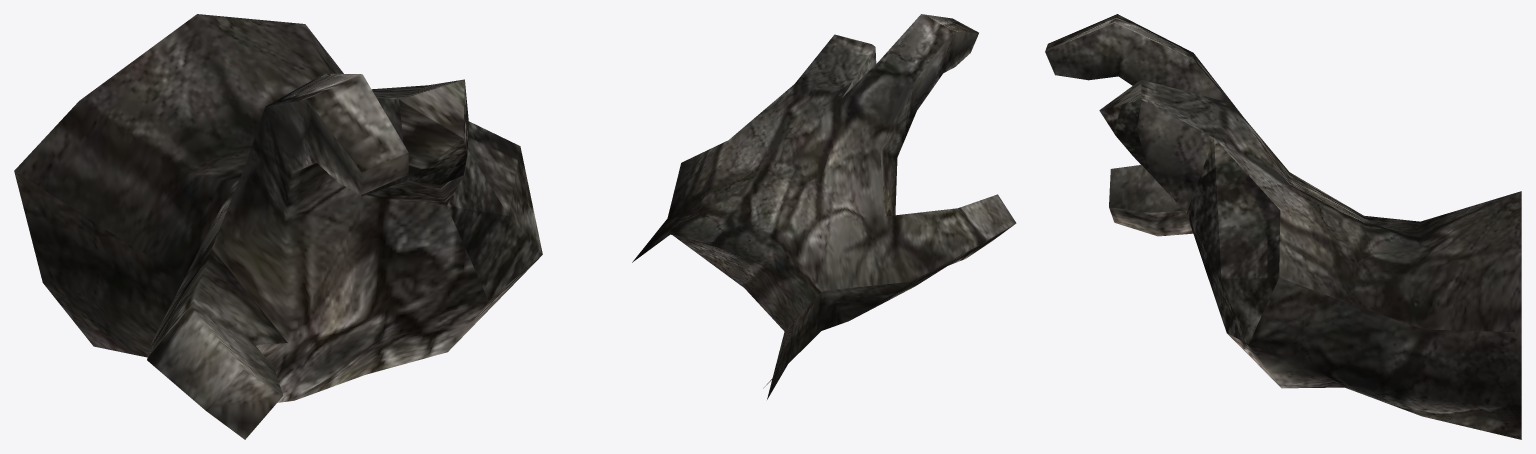
The picture shows the model from 3 angles, left to right: view 1: azimuth 30°, elevation 25°; view 2: azimuth 150°, elevation 25°; view 3: azimuth 270°, elevation 25°; orthographic projection. The views are drawn at different scales.
Visible parts, largest first — view 1: model_Object79; view 2: model_Object79; view 3: model_Object79.
Part boxes in pixels (left/top/right/bottom): model_Object79: left=14, top=14, right=542, bottom=439; model_Object79: left=632, top=14, right=1016, bottom=399; model_Object79: left=1045, top=14, right=1521, bottom=439.
Size of the model in its own units: 1.07 by 1.15 by 1.4.
3 materials, 3 textured.
